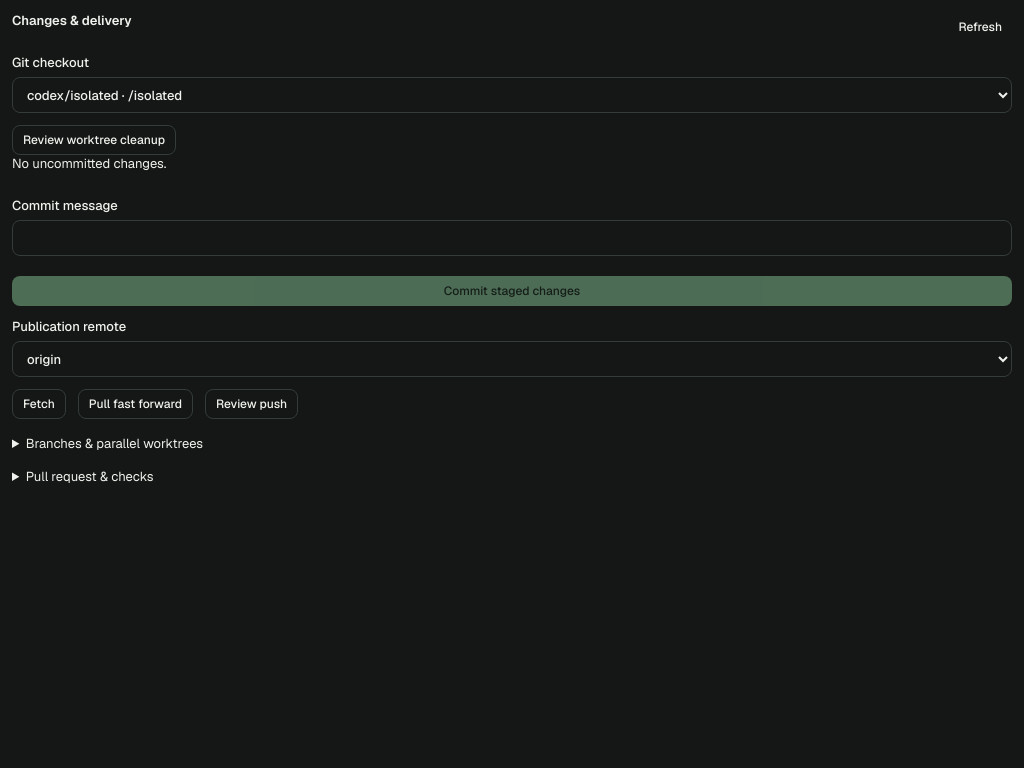
Test: returns the delivery selector to project only after completed cleanup, retaining dirty refusal
The width and height of the screenshot is (1024, 768).
Click the button "Review worktree cleanup".
click(94, 140)  # box [12,125,176,155]
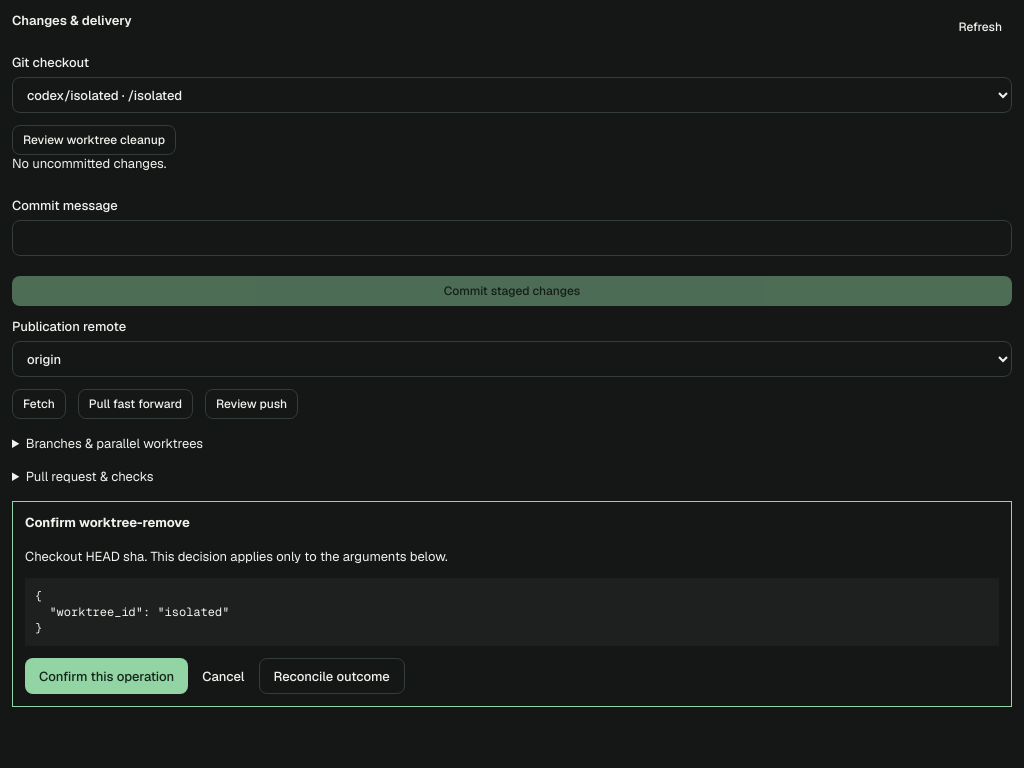
Click the button "Confirm this operation".
click(107, 676)  # box [25,658,188,694]
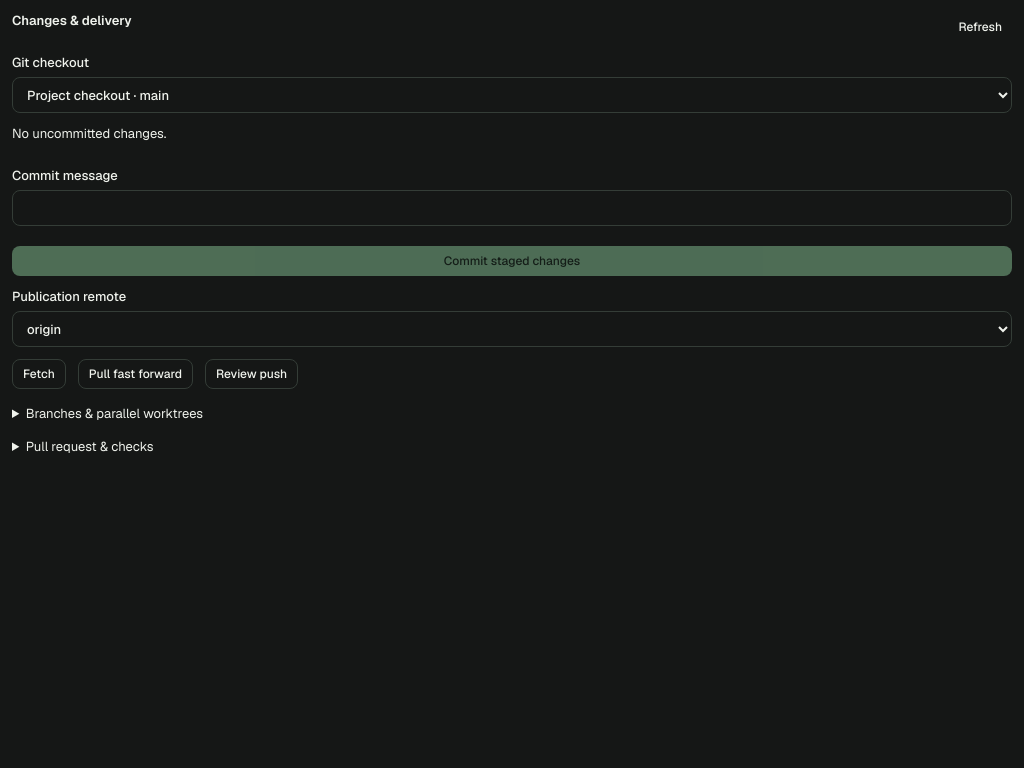
Expected: the text "No uncommitted changes." is shown, [12,125,166,142]
Now the dropdown labelled "Git checkout" shows "Project checkout · main", box [12,77,1012,113]
